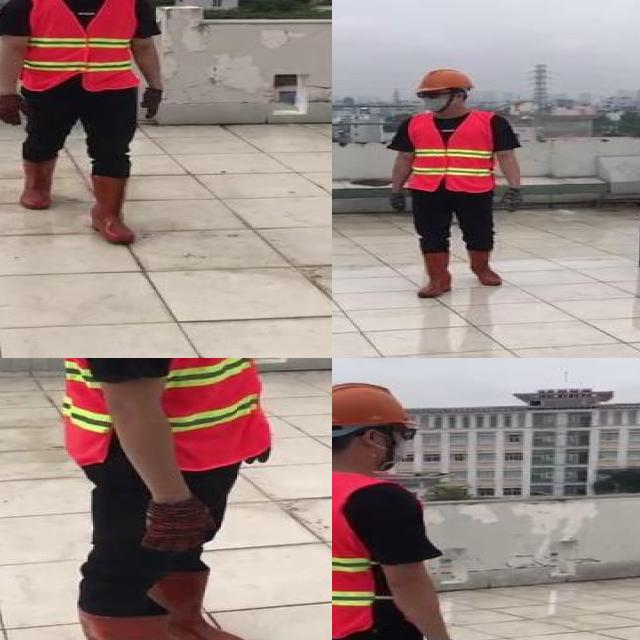boots: (159, 570, 253, 640), (75, 610, 233, 640), (88, 173, 140, 247), (21, 156, 58, 211), (419, 250, 454, 296), (467, 247, 502, 286)
face_mask: (415, 89, 449, 111)
glasses: (414, 90, 444, 100)
hand_glove: (138, 499, 220, 552), (0, 92, 30, 127), (501, 186, 524, 213), (144, 87, 163, 118), (388, 191, 412, 211), (250, 452, 274, 467)
head_helmet: (332, 379, 420, 433), (414, 66, 475, 94)
person: (45, 358, 301, 640), (0, 0, 178, 257), (332, 377, 479, 640), (386, 64, 528, 300)
vest: (68, 358, 269, 469), (24, 0, 139, 92), (332, 470, 394, 640), (404, 113, 497, 191)
